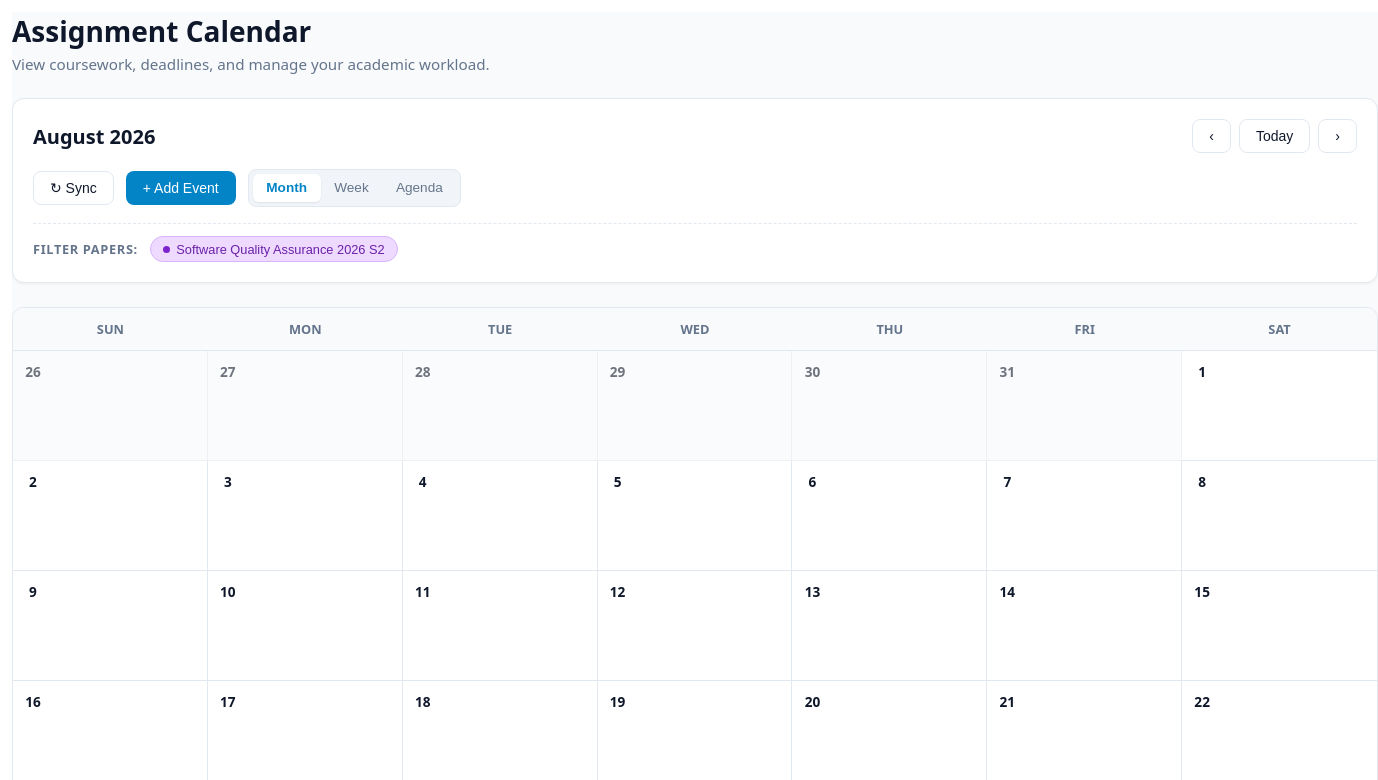
Calendar - views (FR-04) › TC-35: moves to the previous and next month with the navigation buttons
Expected: the heading "August 2026" is shown, [33, 122, 155, 150]
Click the button named "next period": (1338, 136) [1318, 119, 1357, 153]
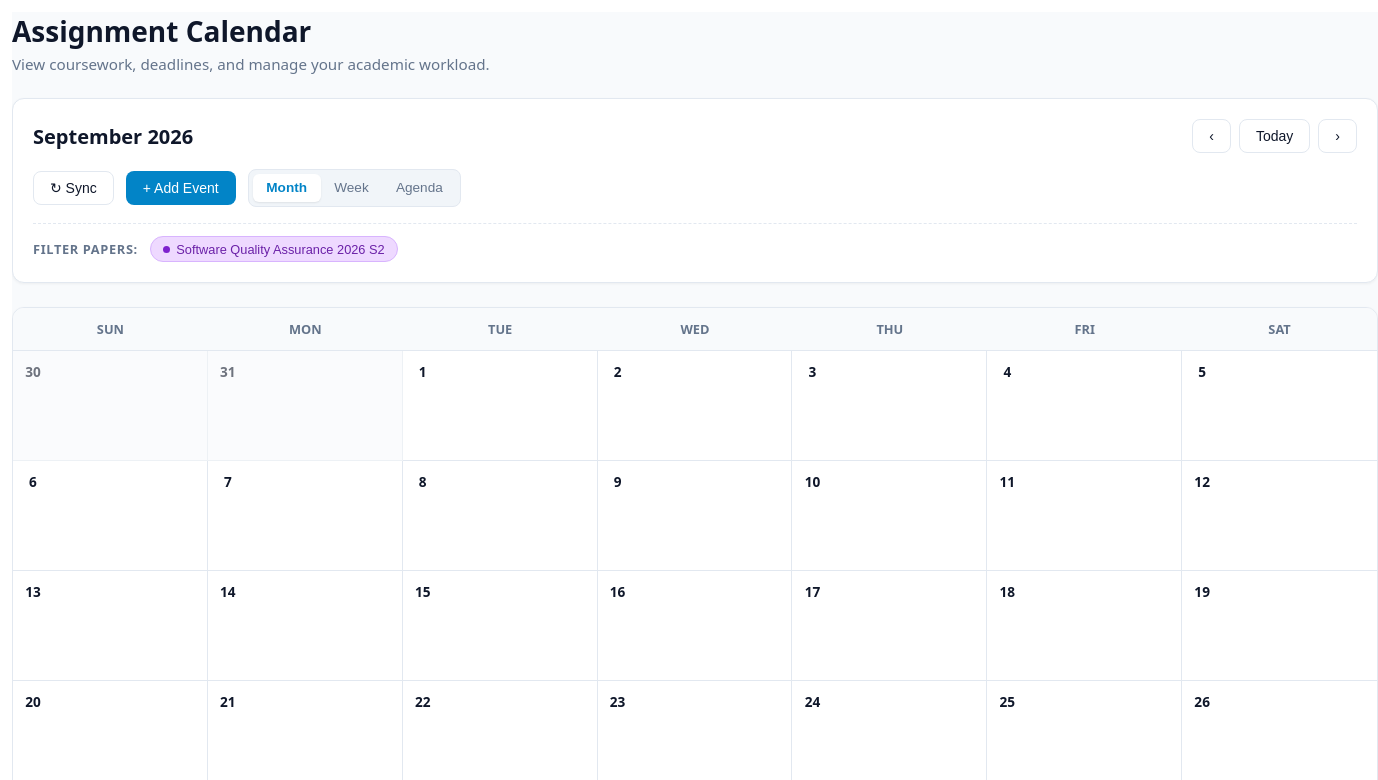
Now the heading "September 2026" is shown, box [33, 122, 193, 150]
Now the element titled "Mid-Project Report" is gone
Click the button named "previous period": (1212, 136) [1192, 119, 1231, 153]
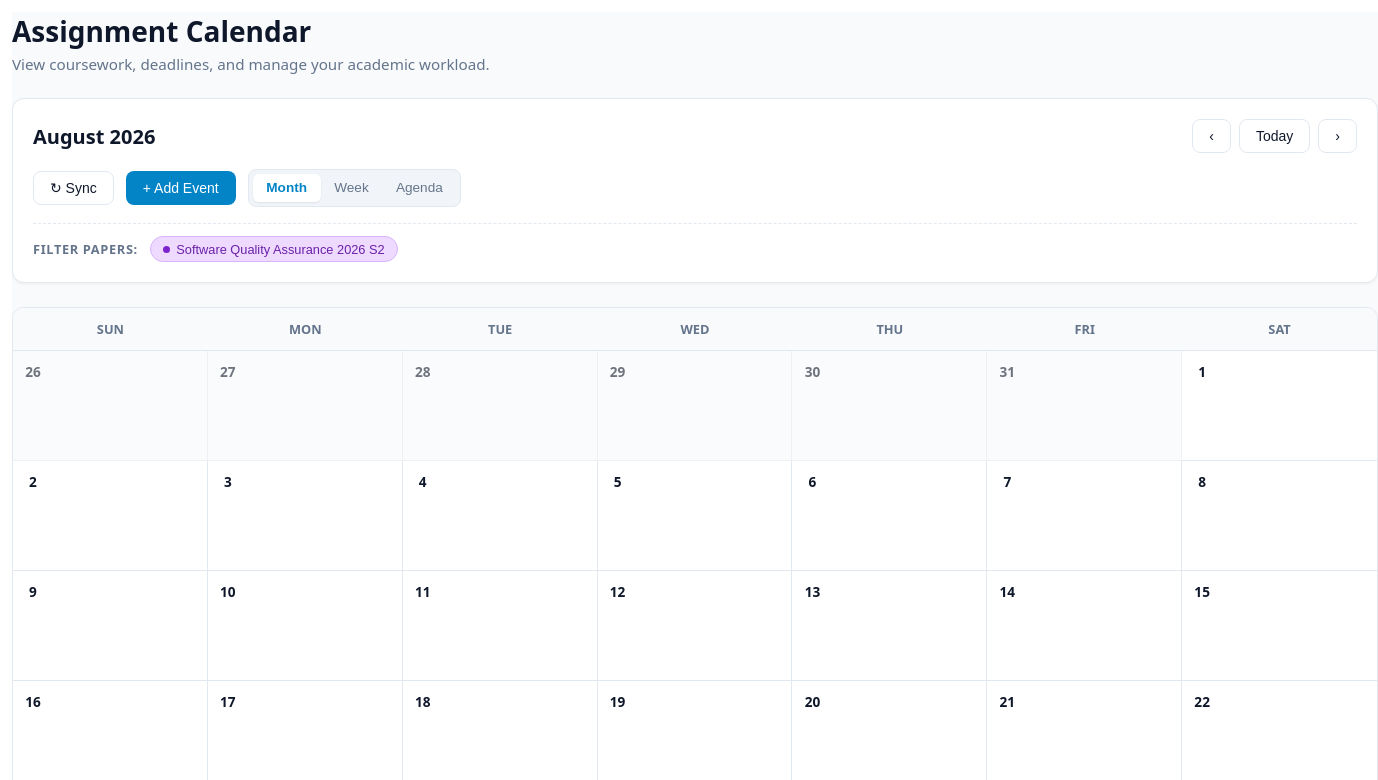
Click the button named "previous period": (1212, 136) [1192, 119, 1231, 153]
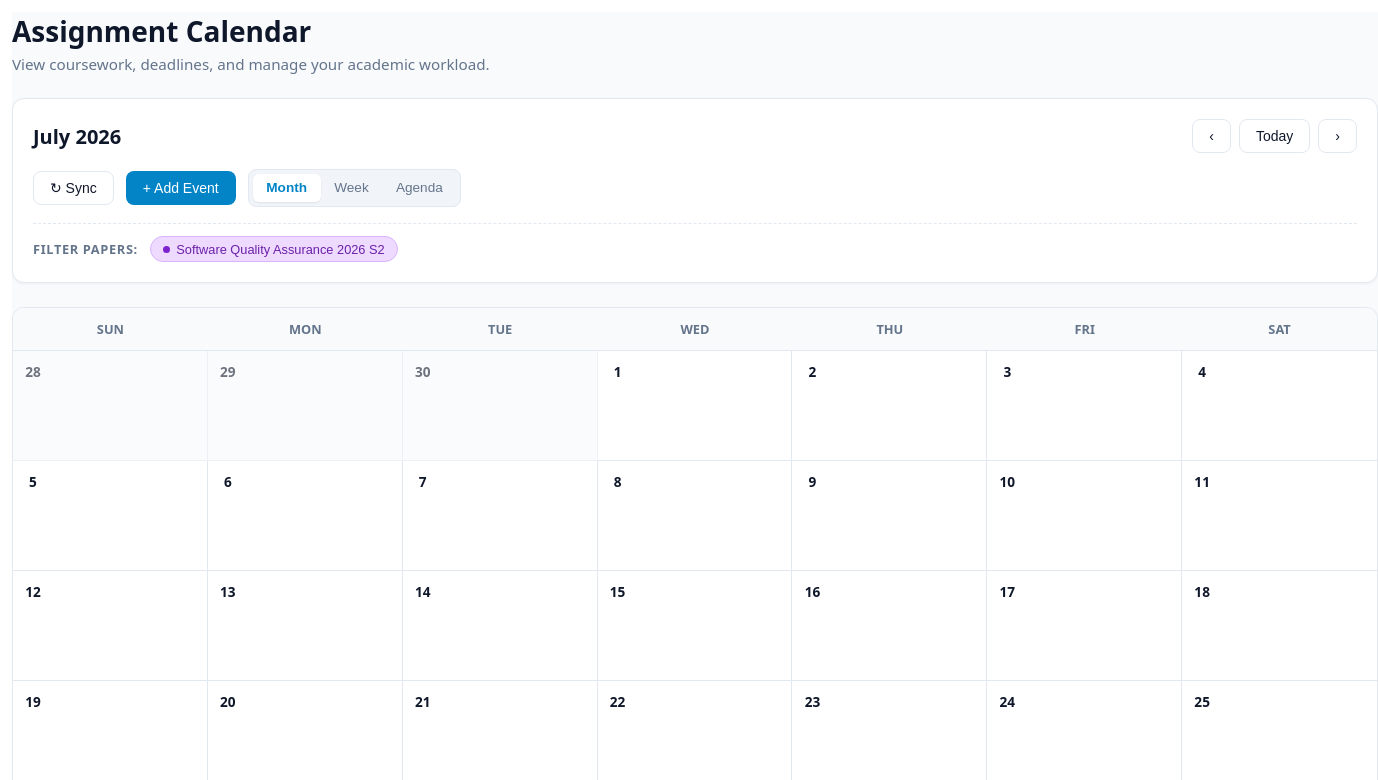
Now the heading "July 2026" is shown, box [33, 122, 121, 150]
